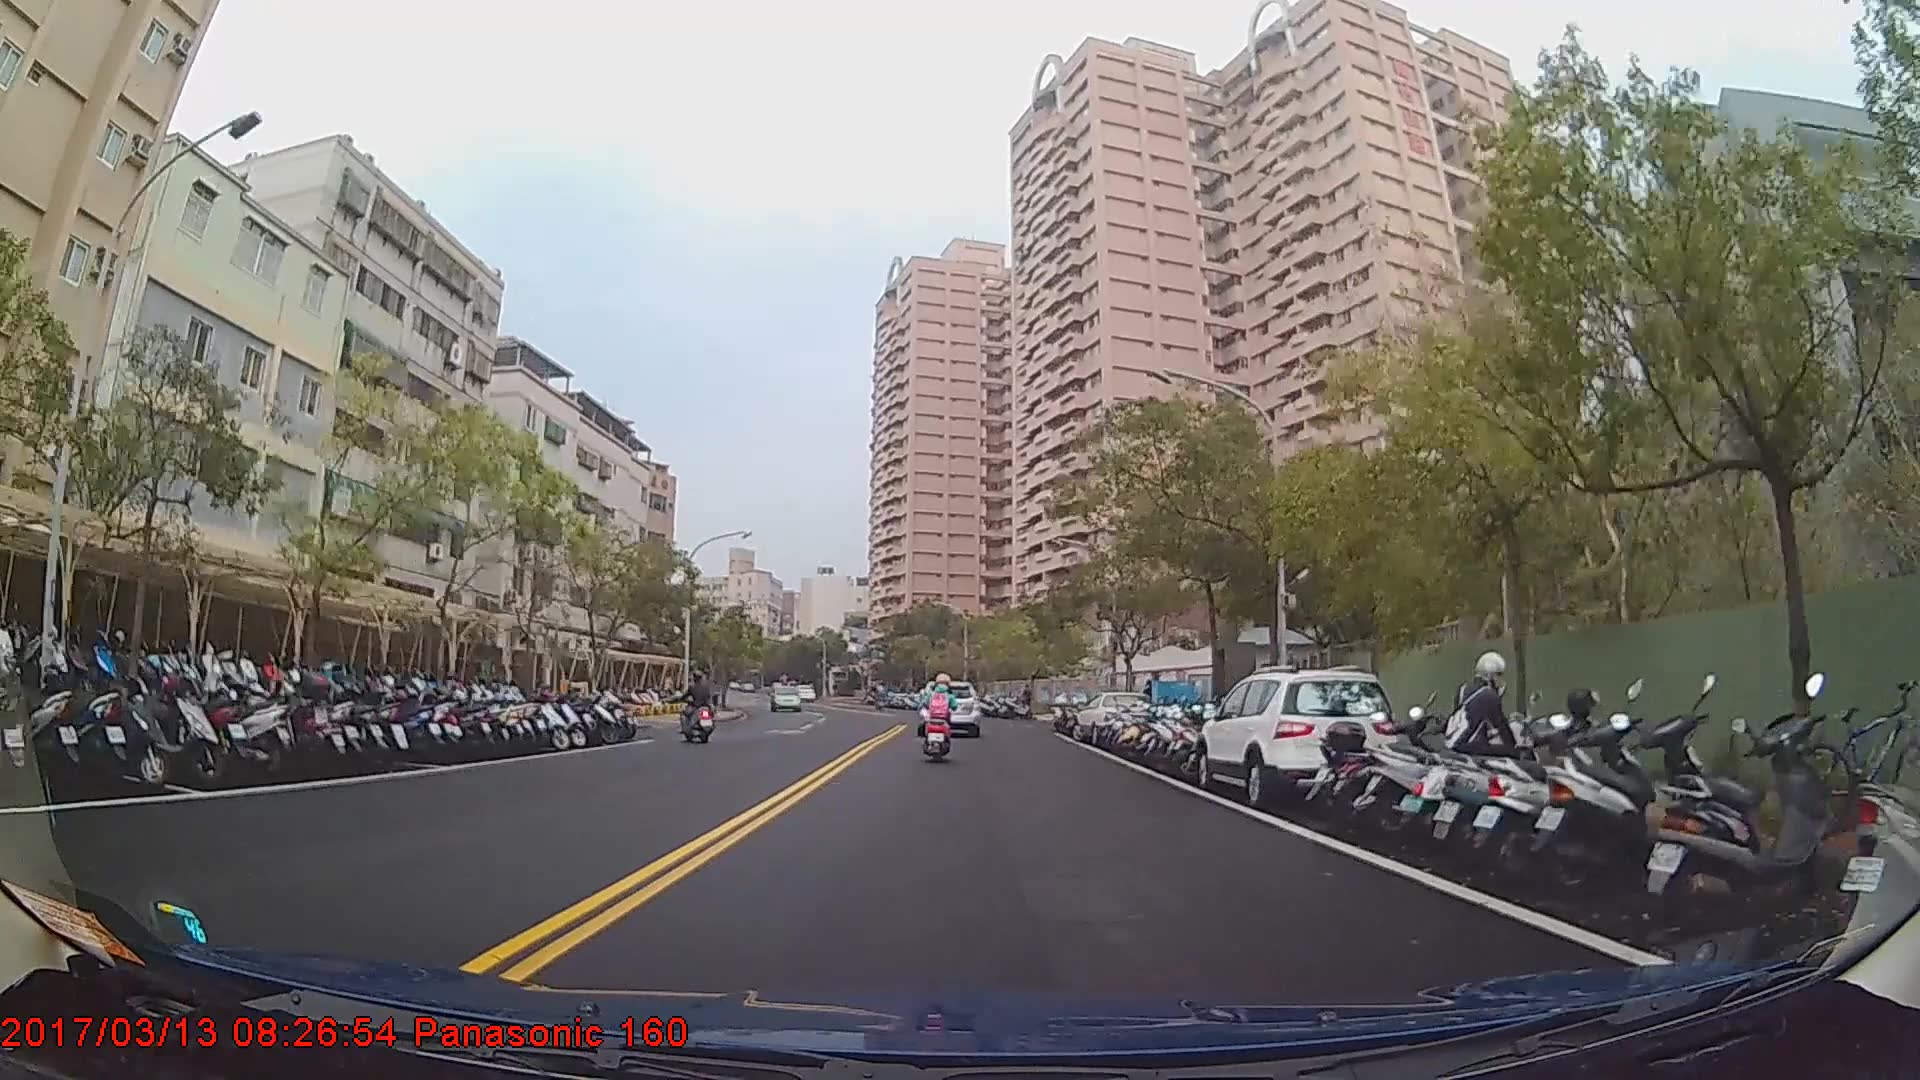rider: (919, 666, 959, 767), (680, 668, 717, 744)
vehicle: (1193, 668, 1397, 808), (1070, 688, 1156, 748), (916, 676, 977, 733), (768, 684, 804, 710)
